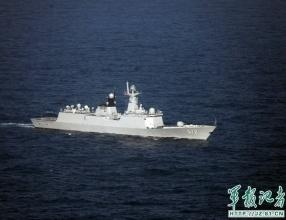warship: (24, 85, 218, 136)
